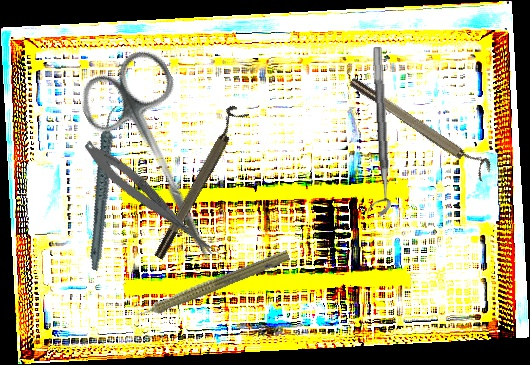Fixation Ring: (347, 69, 495, 182), (145, 103, 250, 262), (358, 46, 392, 218)
Handpiece: (58, 104, 152, 272), (124, 243, 292, 328)
Iris Scissors: (70, 42, 255, 283)
Micro Scissor: (78, 136, 227, 263)
